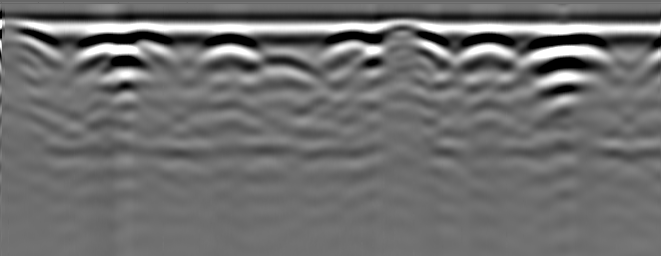pipe: (1, 25, 60, 52), (375, 23, 427, 45)
steel: (528, 52, 612, 77), (261, 53, 321, 79), (82, 52, 150, 74), (460, 51, 518, 76), (197, 54, 264, 74)
